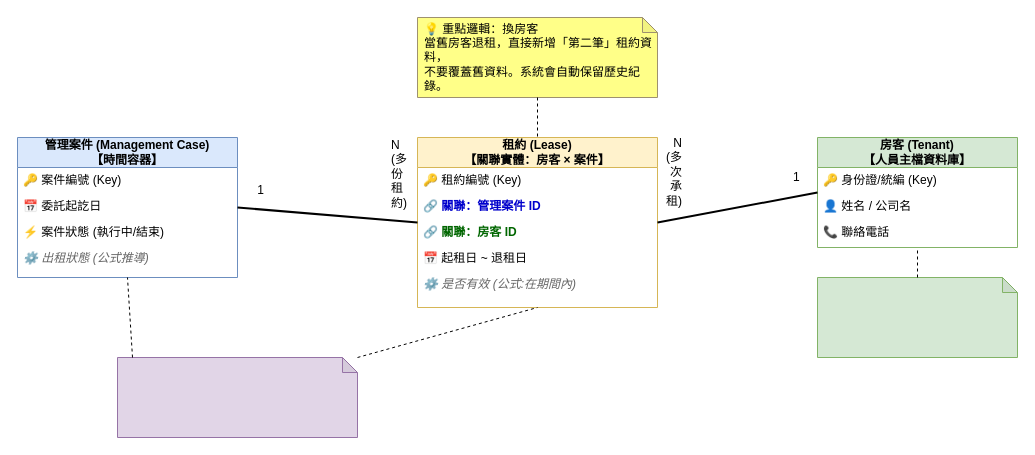
The diagram is 1035 pixels wide and 455 high, and some of its shapes have lost their labels. Here are the shapes that lost their labels. From the top down, the centre of each, then its label:
At pixel 917 317: "👤 人員主檔管理： 房客資料是獨立的。 老房客續租或租其他房間， 直接選取既有人員，不用重打。".
At pixel 237 397: "⚙️ 系統自動判斷： 若「今天」在 起租~退租 日期範圍內 該租約為 [有效]，案件顯示 [出租中] 否則顯示 [閒置/招租中]".
